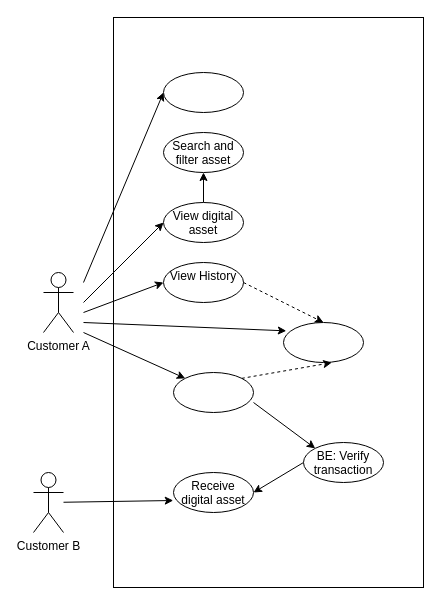
Image size: 441x605. Some labels were removed from this diagram. Each missing label, with the centre of its shape:
"Login" belongs at point (323, 342).
"Signup" belongs at point (203, 92).
"Trade digital asset" belongs at point (213, 392).
